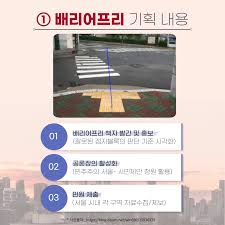guide_blocks: (82, 92, 138, 99), (100, 99, 125, 112)
